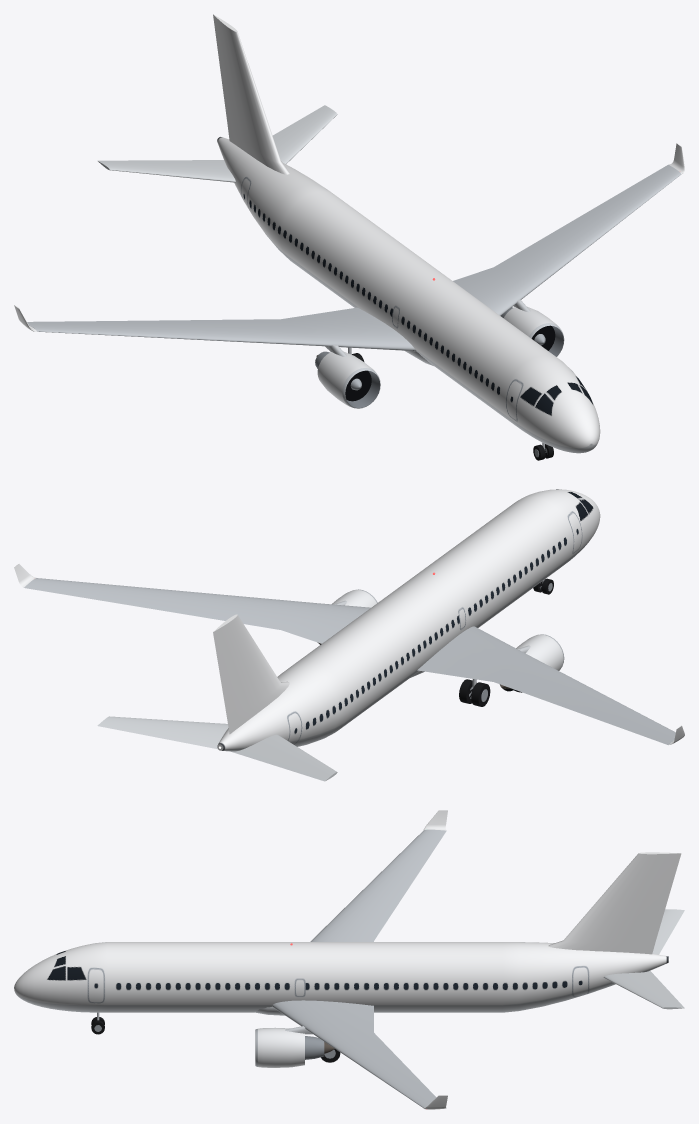
The model's file is bcs1.glb.
The picture shows the model from 3 angles, top to bottom: view 1: azimuth 30°, elevation 25°; view 2: azimuth 150°, elevation 25°; view 3: azimuth 270°, elevation 25°; orthographic projection. The views are drawn at different scales.
Parts seen in each view (by area): view 1: body; view 2: body, gear; view 3: body.
Part boxes in pixels (x1,y1,x2,y2): body: (14,14,684,453); body: (14,489,684,781); gear: (459,578,553,706); body: (14,810,684,1109).
Size of the model in its own units: 36.12 by 10.52 by 35.87.
19 materials, 1 textured.
